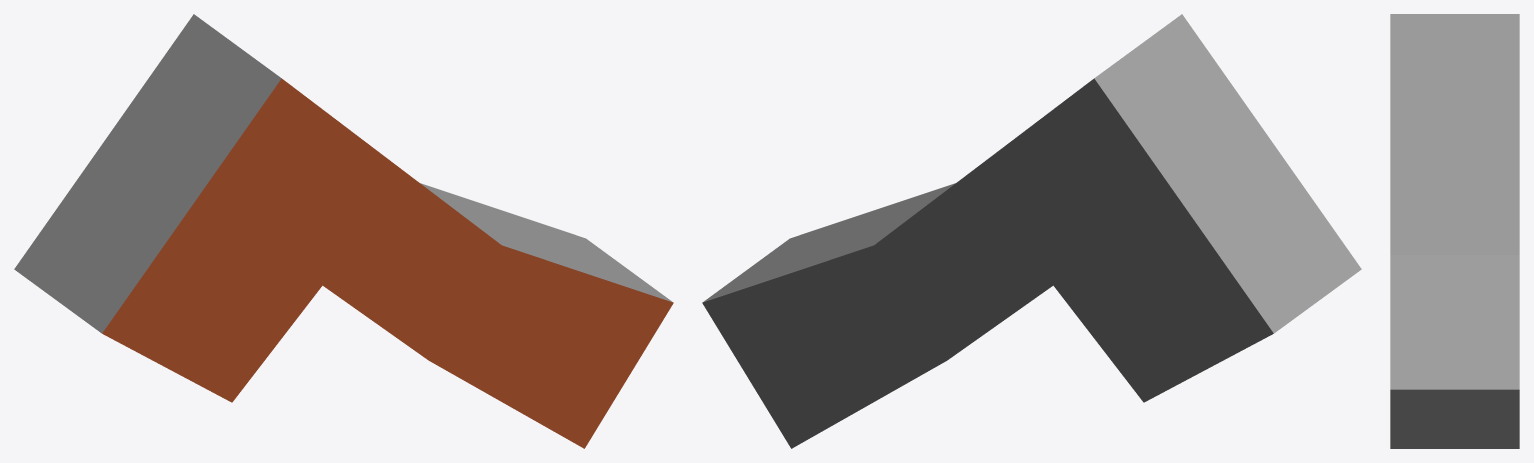
The model's file is construction_2022_assumed_A_Casa_h6m.obj.
3 renders of one model, left to right at view 1: azimuth 30°, elevation 25°; view 2: azimuth 150°, elevation 25°; view 3: azimuth 270°, elevation 25°, orthographic. The views are drawn at different scales.
Parts seen in each view (by area): view 1: construction_2022_assumed_A_Casa; view 2: construction_2022_assumed_A_Casa; view 3: construction_2022_assumed_A_Casa.
Boxes of the visible parts, box(x1,y1,x2,y2) form: construction_2022_assumed_A_Casa: box(14, 14, 673, 448); construction_2022_assumed_A_Casa: box(702, 14, 1361, 448); construction_2022_assumed_A_Casa: box(1390, 14, 1519, 448).
Size of the model in its own units: 22.53 by 16.74 by 6.
